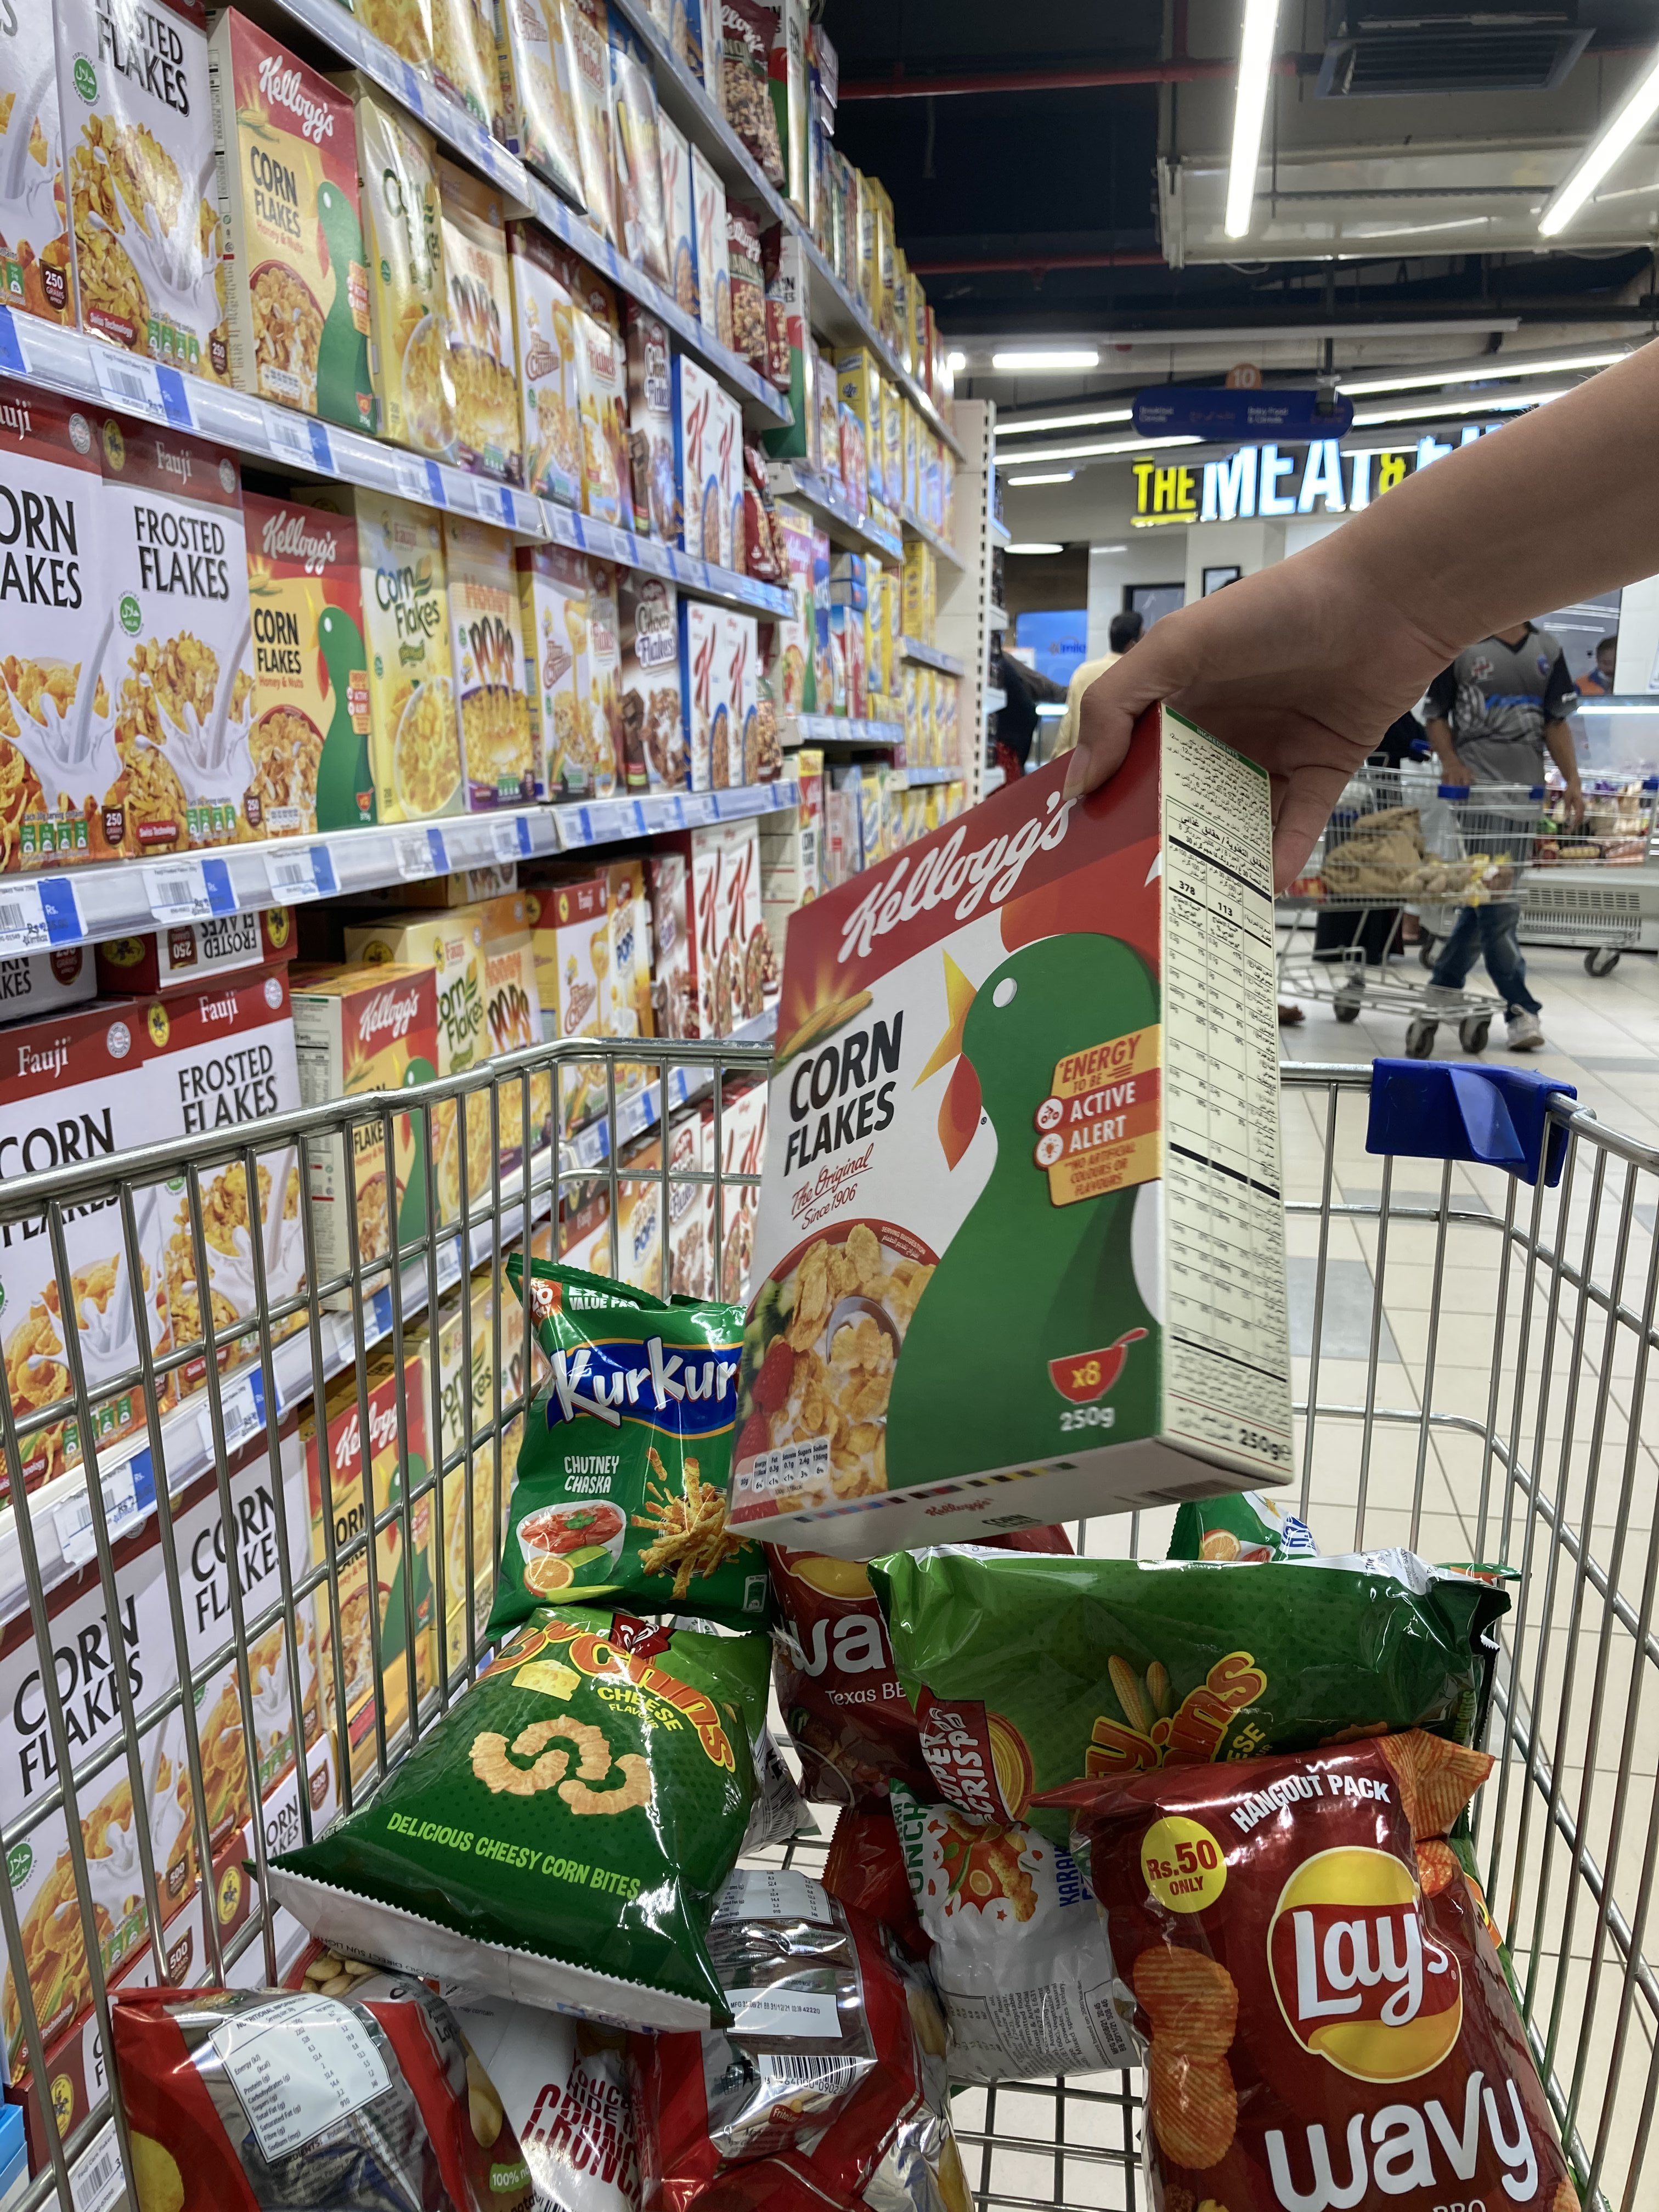Kellogg's Corn Flakes: (721, 712, 1310, 1555)
